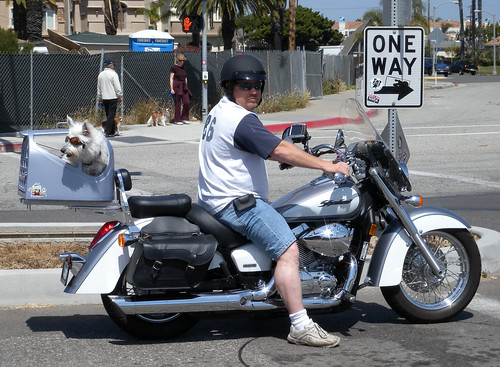helmet: (218, 50, 270, 82)
